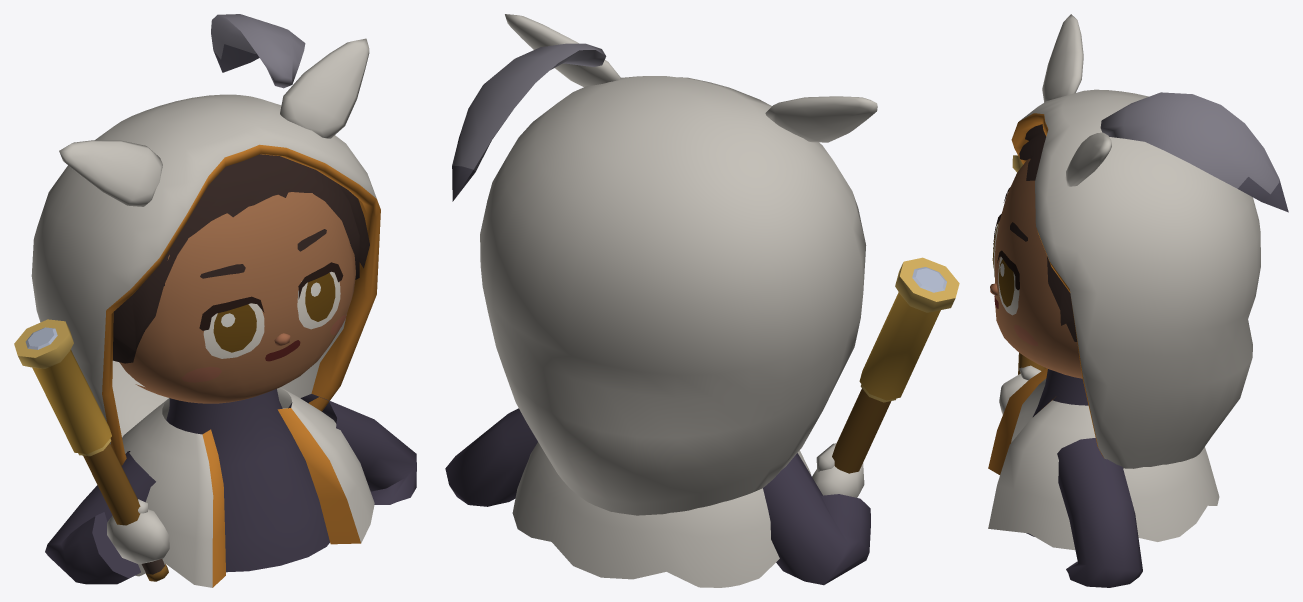
The model's file is lookout_bust.glb.
3 views of the same model, side by side, from view 1: azimuth 30°, elevation 25°; view 2: azimuth 150°, elevation 25°; view 3: azimuth 270°, elevation 25° (orthographic). The views are drawn at different scales.
Visible parts, largest first — view 1: lookout_bust; view 2: lookout_bust; view 3: lookout_bust.
Part boxes in pixels (bbox=[...]): lookout_bust: bbox=[14, 14, 416, 587]; lookout_bust: bbox=[445, 14, 959, 587]; lookout_bust: bbox=[988, 14, 1288, 587].
Size of the model in its own units: 0.558 by 0.5677 by 0.3582.
